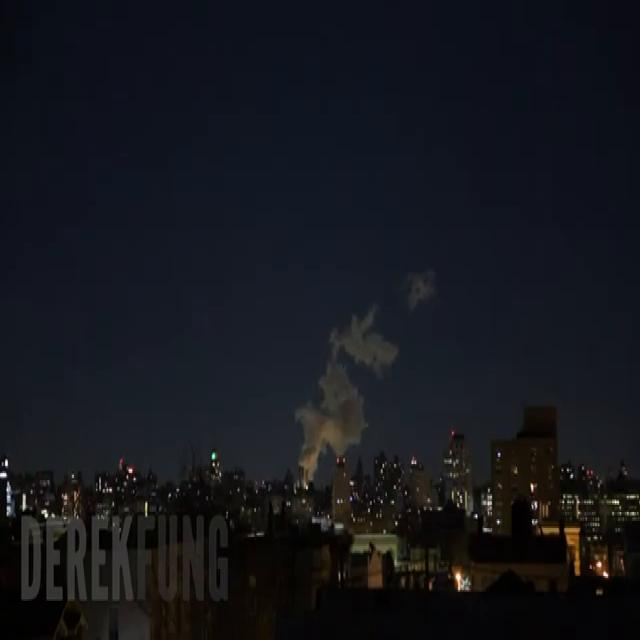smoke: (296, 306, 397, 478)
